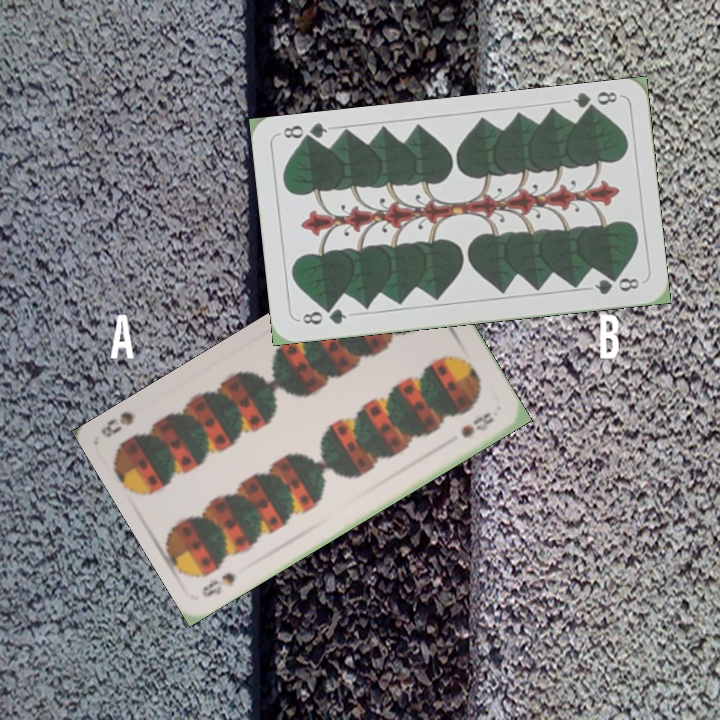G8: (569, 87, 620, 117), (298, 304, 349, 328)
S8: (197, 568, 238, 600)
